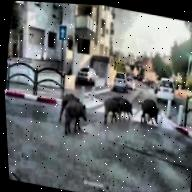boar: (134, 89, 165, 136), (61, 91, 89, 135), (98, 94, 124, 133), (115, 91, 136, 125), (58, 84, 77, 111)
